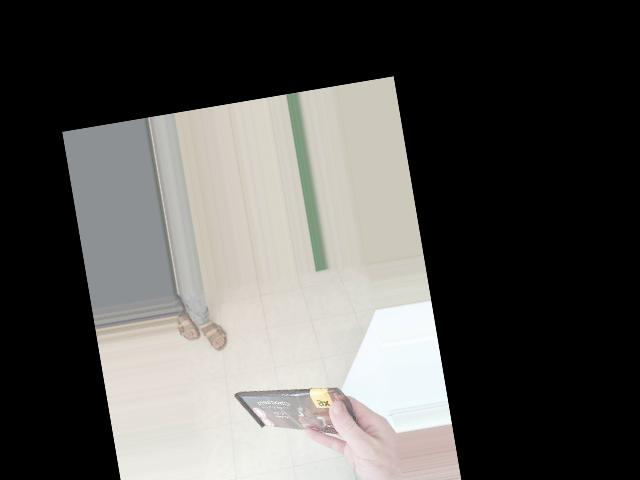chocolate: (228, 364, 368, 460)
